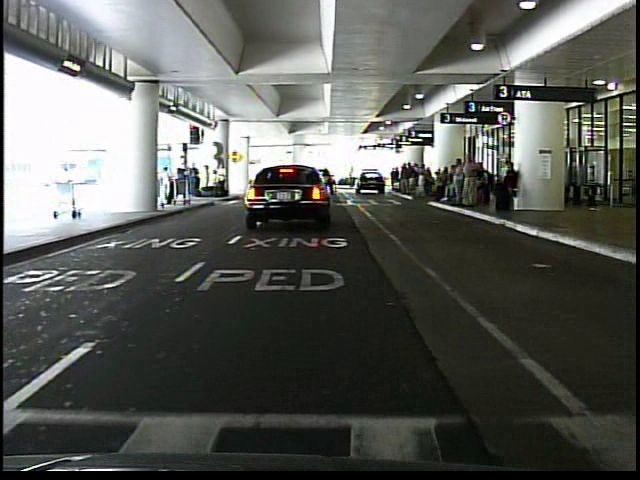person: (459, 150, 481, 211), (157, 165, 177, 218)
